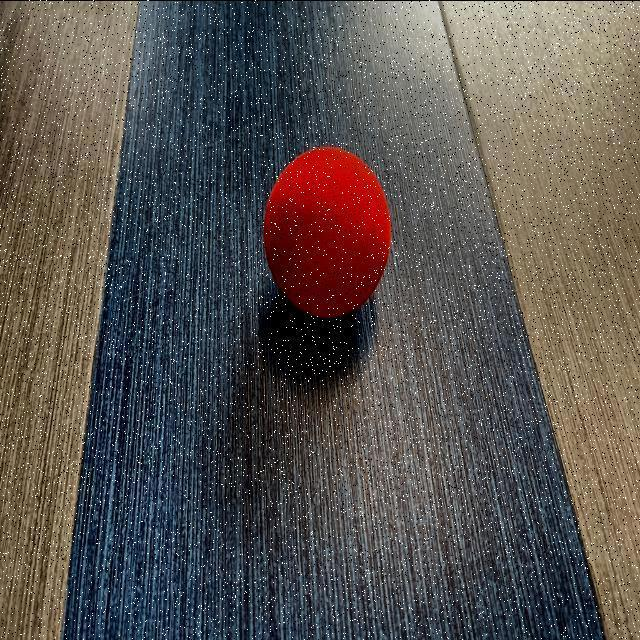ping-pong-ball: (262, 144, 394, 322)
